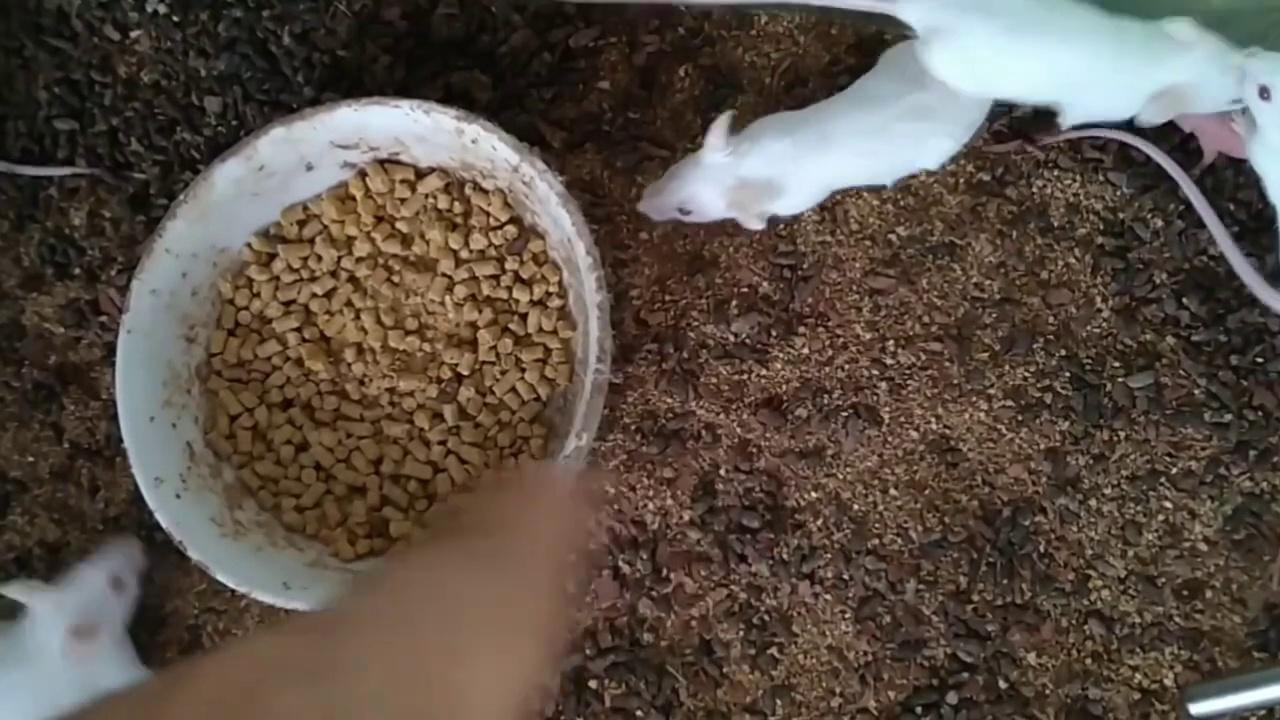rat: (564, 0, 1247, 128), (637, 39, 994, 231), (0, 536, 157, 720), (1244, 50, 1280, 258)
